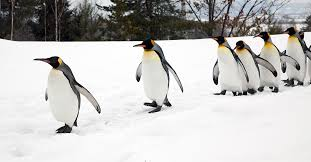Walking: (208, 19, 309, 105), (27, 45, 105, 150), (125, 36, 187, 128)
